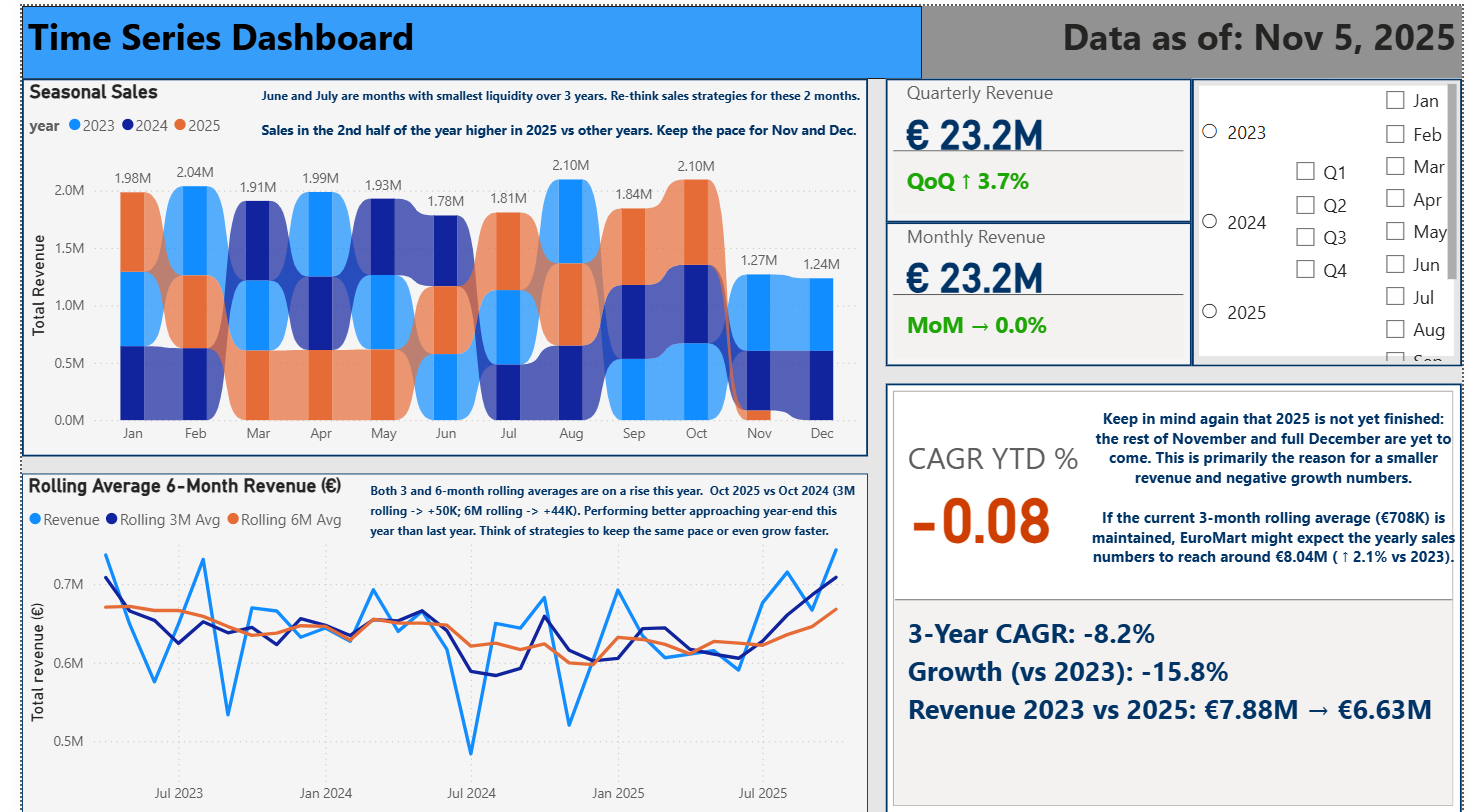

The dashboard page shown, as its layout file describes it:
{"tool":"powerbi","page":{"name":"Time Series Dive","canvas":[1280,720],"ordinal":6},"visuals":[{"type":"textbox","box":[0,0,800,64],"z":0},{"type":"textbox","box":[800,0,480,64],"z":1000},{"type":"ribbonChart","title":"Seasonal Sales","fields":{"Category":["Sort month name short.month_name_short"],"Y":["fact_sales.Total Revenue"],"Series":["dim_date.year"]},"box":[0,64,752,336],"z":2000},{"type":"textbox","box":[208,64,560,48],"z":3000},{"type":"textbox","box":[208,96,544,32],"z":4000},{"type":"cardVisual","fields":{"Data":["Time series measures.Revenue"]},"box":[768,64,272,128],"z":5000},{"type":"lineChart","title":"Rolling Average 6-Month Revenue (€)","fields":{"Y":["Time series measures.Revenue","Time series measures.Revenue MA3","Time series measures.Rolling Avg 6M"],"Category":["dim_date.full_date.Variation.Date Hierarchy.Year","dim_date.full_date.Variation.Date Hierarchy.Month"]},"box":[0,416,752,304],"z":6000},{"type":"textbox","box":[304,416,448,80],"z":7000},{"type":"cardVisual","fields":{"Data":["Time series measures.Revenue"]},"box":[768,192,272,128],"z":8000},{"type":"listSlicer","fields":{"Values":["dim_date.year_name"]},"box":[1040,64,240,256],"z":9000},{"type":"slicer","fields":{"Values":["dim_date.quarter_name"]},"box":[1120,128,80,128],"z":10000},{"type":"slicer","fields":{"Values":["Sort month name short.month_name_short"]},"box":[1200,64,80,256],"z":11000},{"type":"cardVisual","fields":{"Data":["Time series measures.CAGR YTD %"]},"box":[768,336,512,384],"z":12000},{"type":"textbox","box":[944,352,336,160],"z":13000}]}

Visuals, with their boxes in screenshot pixels (x1, y1, x2, y2), scaled from the page's 1280x720 canvas onto the 1483x812 screenshot:
textbox: 0:0:927:72
textbox: 927:0:1482:72
"Seasonal Sales" ribbonChart: 0:72:871:451
textbox: 241:72:890:126
textbox: 241:108:871:144
cardVisual - Time series measures.Revenue: 890:72:1205:217
"Rolling Average 6-Month Revenue (€)" lineChart: 0:469:871:811
textbox: 352:469:871:559
cardVisual - Time series measures.Revenue: 890:217:1205:361
listSlicer - dim_date.year_name: 1205:72:1482:361
slicer - dim_date.quarter_name: 1298:144:1390:289
slicer - Sort month name short.month_name_short: 1390:72:1482:361
cardVisual - Time series measures.CAGR YTD %: 890:379:1482:811
textbox: 1094:397:1482:577
